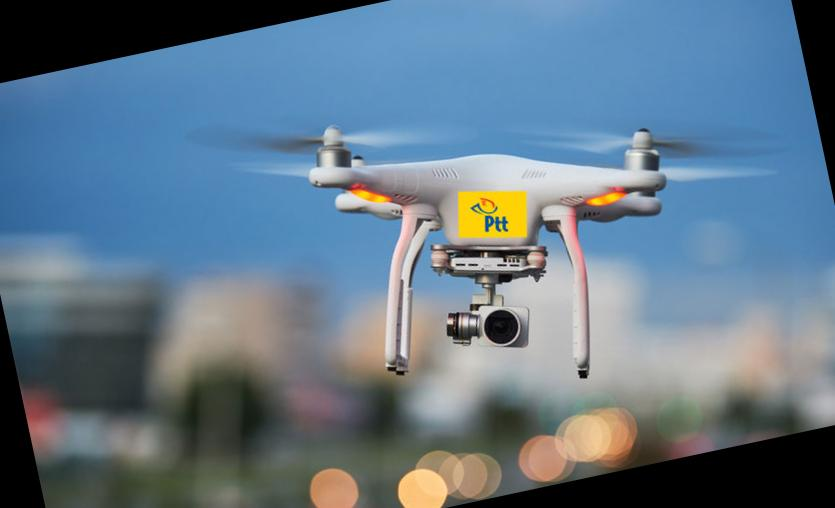drone: (178, 0, 800, 368)
